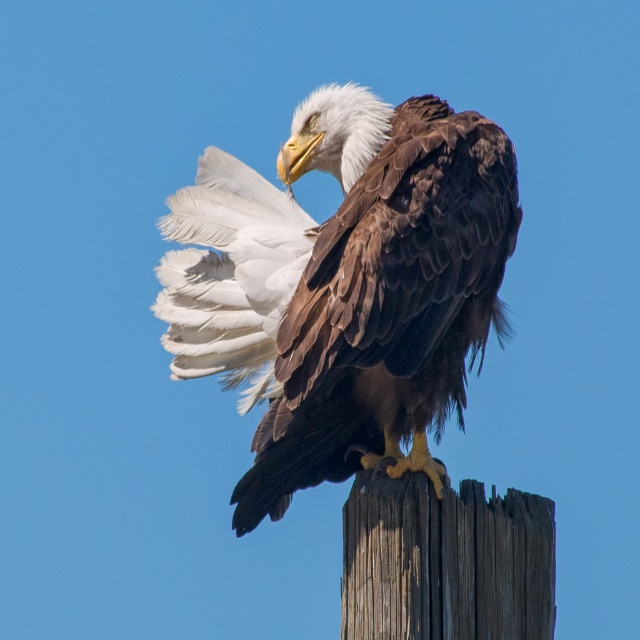Eagle: (150, 81, 529, 543)
